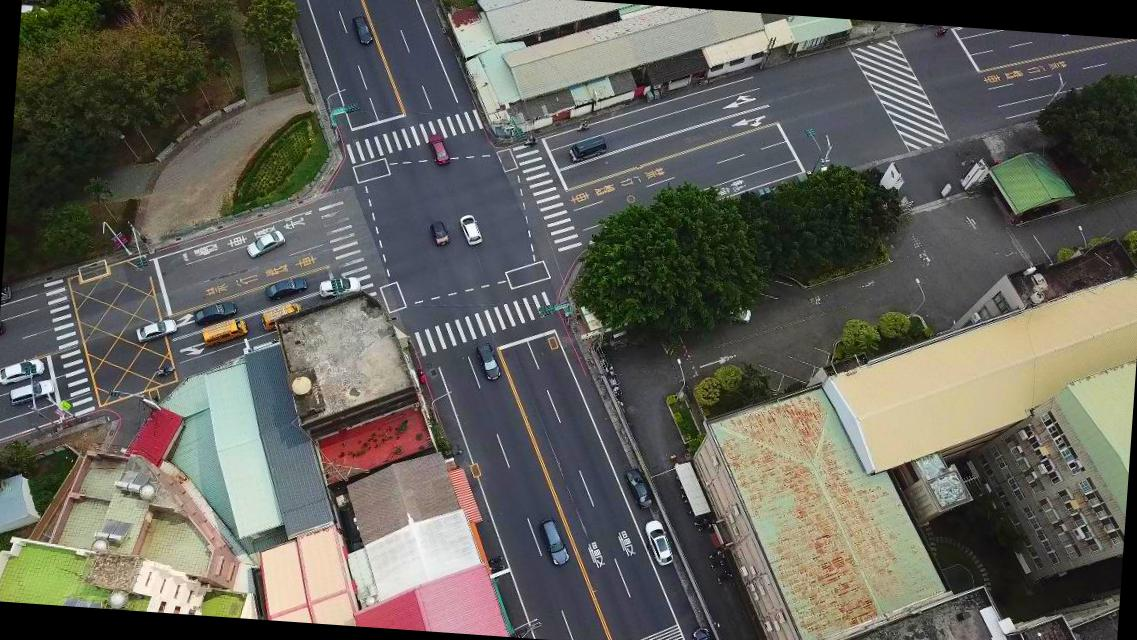vehicle: (198, 314, 251, 348), (535, 516, 570, 566), (640, 516, 674, 566), (6, 374, 56, 408), (621, 464, 655, 511), (0, 354, 47, 387), (192, 297, 239, 328), (260, 298, 302, 332), (244, 226, 286, 260), (470, 338, 501, 384), (134, 314, 178, 346), (264, 272, 310, 302), (567, 134, 607, 164), (315, 274, 362, 298), (456, 212, 482, 247), (424, 132, 449, 164), (350, 14, 373, 46), (426, 219, 449, 248), (689, 623, 720, 639)
